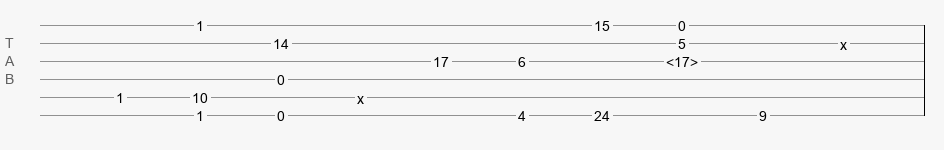0: (277, 108, 285, 118), (277, 72, 285, 82), (678, 18, 686, 28)
1: (116, 90, 124, 100), (196, 18, 204, 28), (196, 108, 204, 118)
10: (192, 90, 208, 100)
14: (273, 36, 289, 46)
15: (594, 18, 610, 28)
17: (433, 54, 449, 64)
24: (594, 108, 610, 118)
4: (518, 108, 526, 118)
5: (678, 36, 686, 46)
6: (518, 54, 526, 64)
9: (759, 108, 767, 118)
harmonic: (666, 54, 698, 64)
x: (357, 91, 364, 99), (840, 37, 847, 45)
